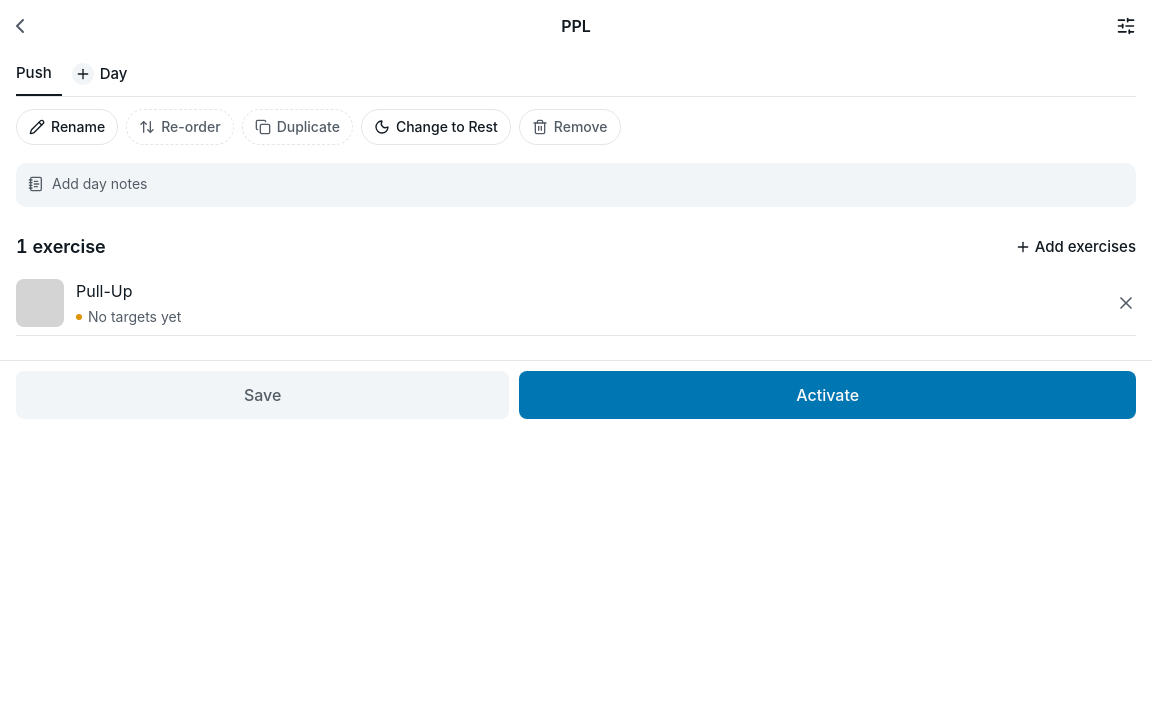
Test: ProgramEditorPage - settings drawer › hides Deactivate on an inactive program
The width and height of the screenshot is (1152, 720).
Click the button named "Program settings": [1114, 26] box [1092, 4, 1136, 48]
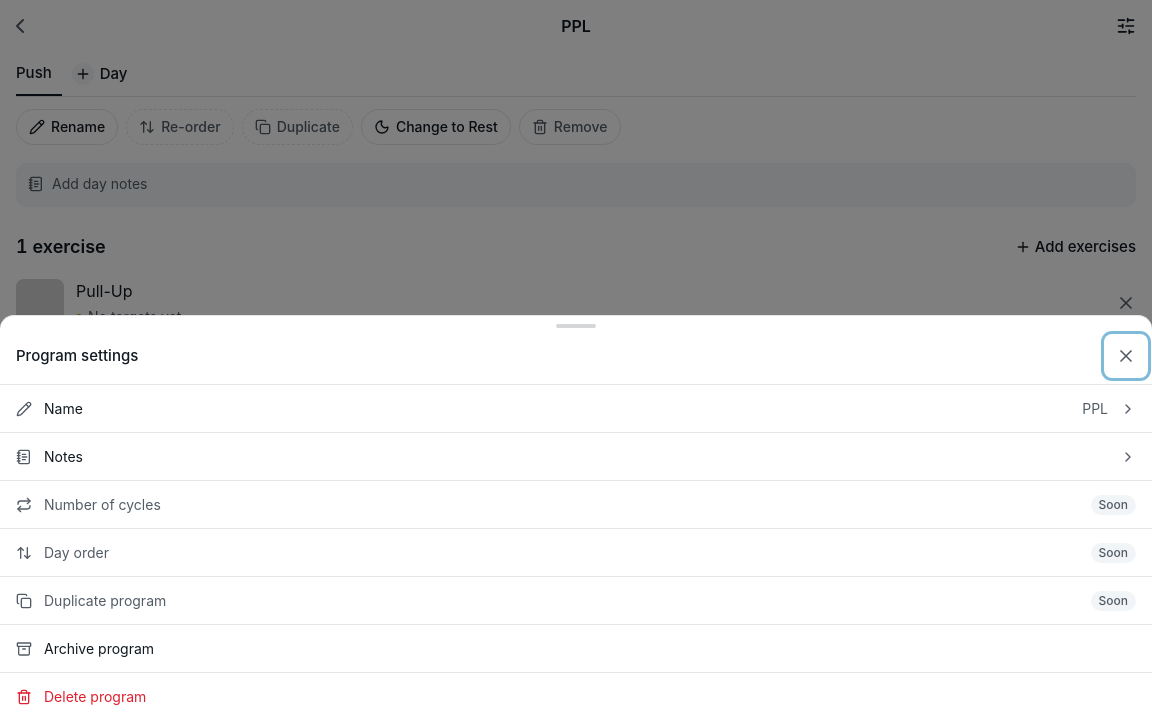
Now the text "Archive program" is shown, box [44, 640, 154, 656]
